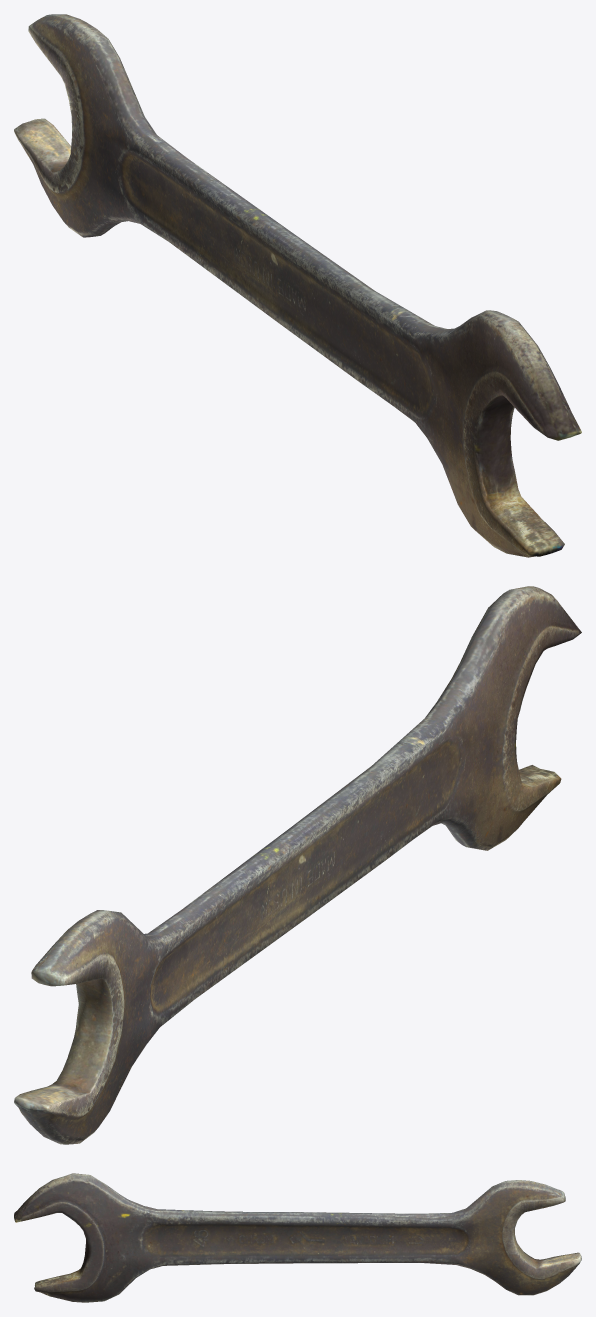
File: PB114_wrench_Low_max.FBX
The picture shows the model from 3 angles, top to bottom: view 1: azimuth 30°, elevation 25°; view 2: azimuth 150°, elevation 25°; view 3: azimuth 270°, elevation 25°; orthographic projection. The views are drawn at different scales.
Visible parts, largest first — view 1: _wrench_Low_RetopoGroup2; view 2: _wrench_Low_RetopoGroup2; view 3: _wrench_Low_RetopoGroup2.
Part boxes in pixels (x1,y1,x2,y2): _wrench_Low_RetopoGroup2: [14, 14, 581, 557]; _wrench_Low_RetopoGroup2: [14, 586, 581, 1144]; _wrench_Low_RetopoGroup2: [14, 1173, 581, 1302].
Bounding box in the file's own units: 0.9412 × 4.86 × 19.85.
Materials: 1 (1 with a texture image).
